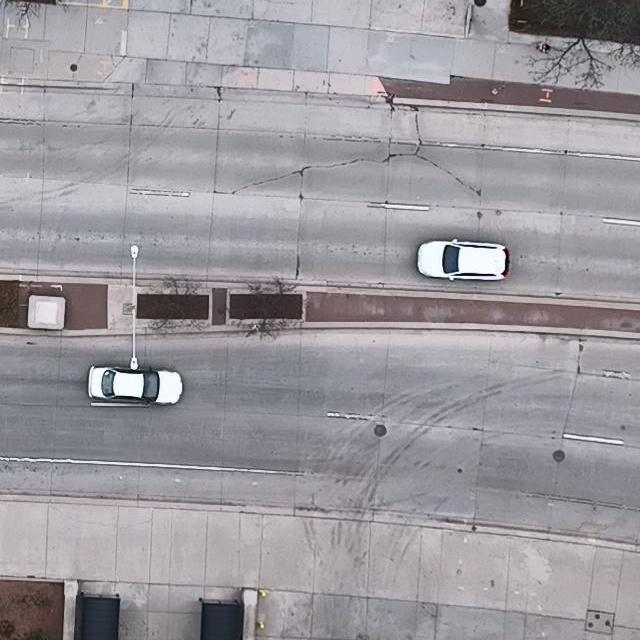car: (417, 238, 512, 282), (87, 364, 183, 404)
